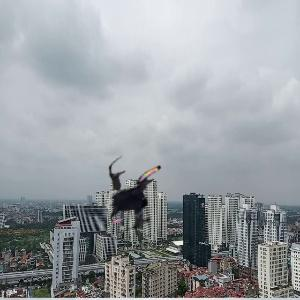drone: (95, 151, 187, 243)
